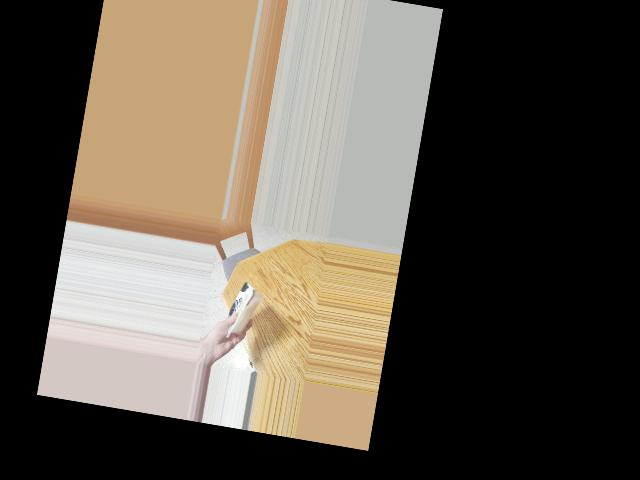cheese: (215, 280, 266, 337)
